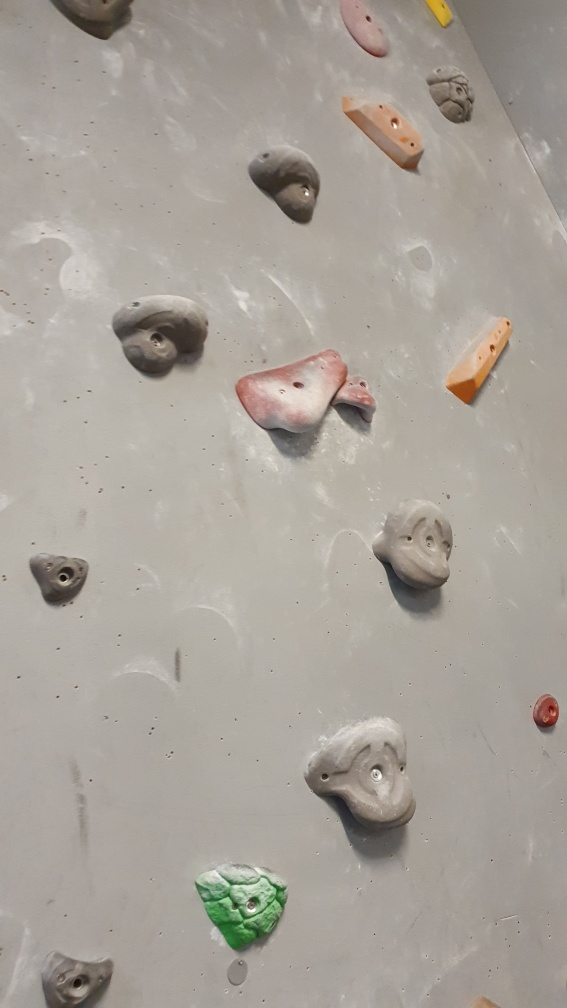Crimp: (26, 548, 99, 611)
Hand Start: (221, 949, 261, 993)
Jug: (299, 712, 423, 840), (111, 292, 211, 386), (369, 491, 458, 595), (245, 142, 335, 230)
Pinch: (337, 90, 429, 180), (440, 309, 520, 407)
